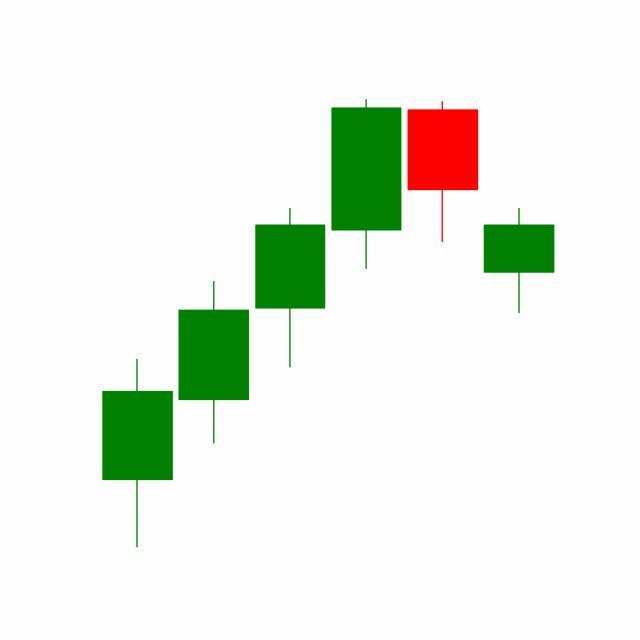Hikkake Pattern: (175, 99, 555, 449)
